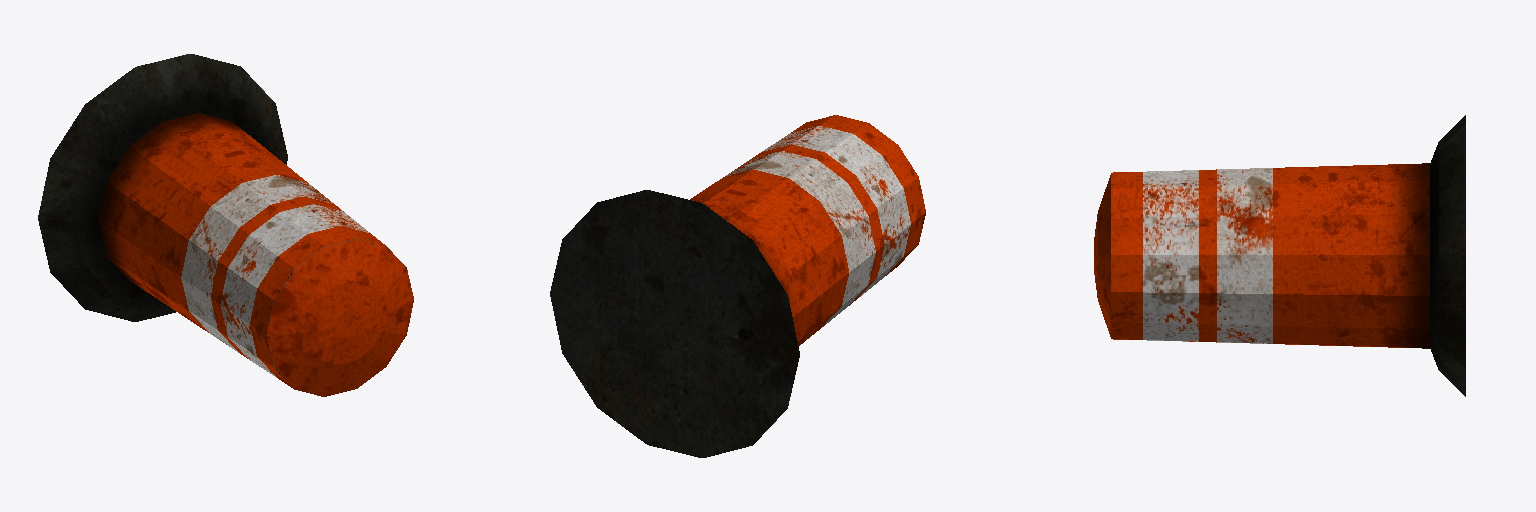
The picture shows the model from 3 angles: view 1: azimuth 30°, elevation 25°; view 2: azimuth 150°, elevation 25°; view 3: azimuth 270°, elevation 25°; orthographic projection.
Parts seen in each view (by area): view 1: Regroup02; view 2: Regroup02; view 3: Regroup02.
Boxes of the visible parts, x1,y1,x2,y2 form: Regroup02: [38, 54, 413, 396]; Regroup02: [550, 115, 925, 457]; Regroup02: [1094, 115, 1465, 396].
Size of the model in its own units: 0.7109 by 0.6931 by 0.9142.
Materials: 1 (1 with a texture image).